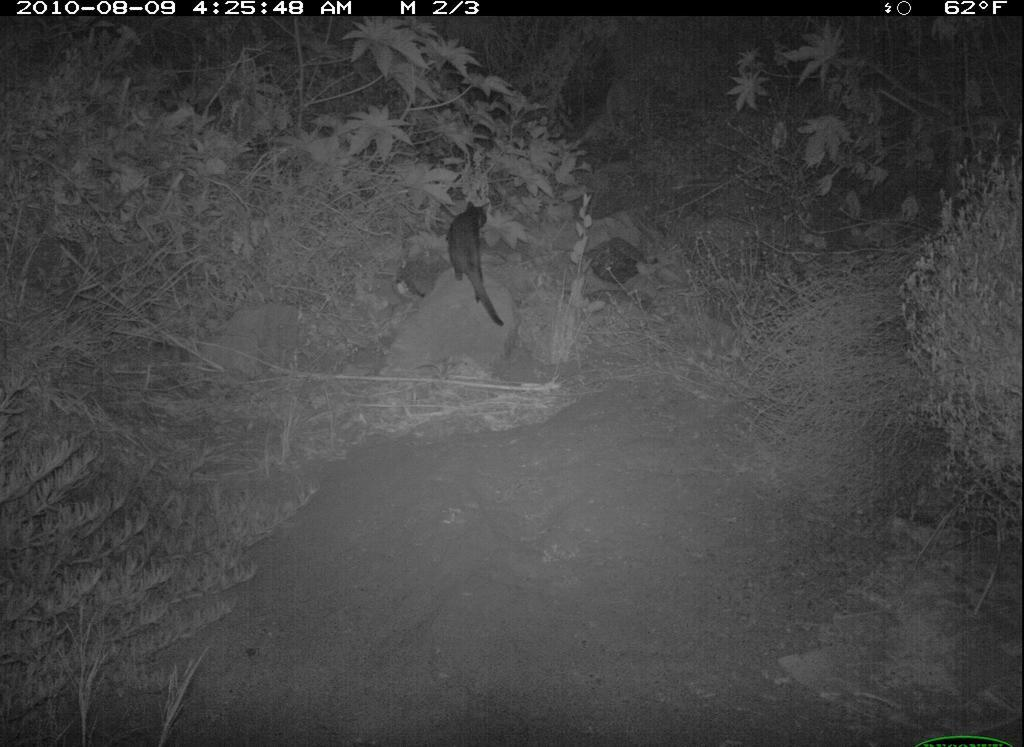cat: (436, 185, 534, 344)
